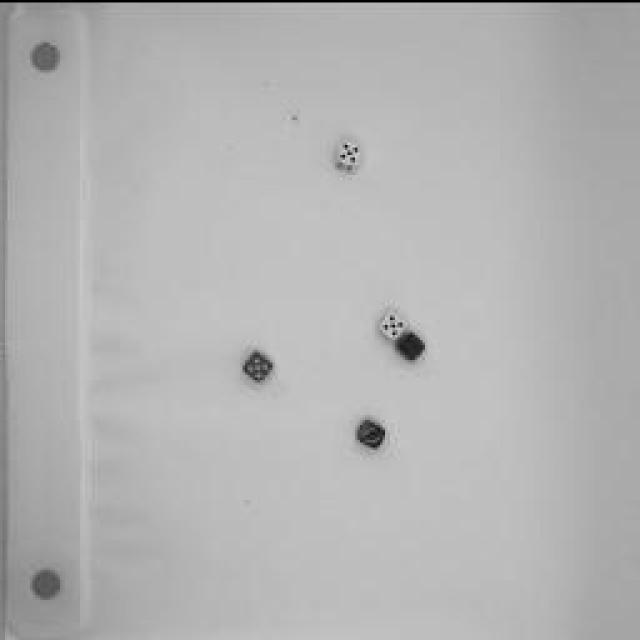dice_1: (398, 331, 428, 361)
dice_3: (352, 411, 390, 449)
dice_5: (239, 336, 279, 386), (331, 135, 364, 170), (378, 310, 408, 338)
